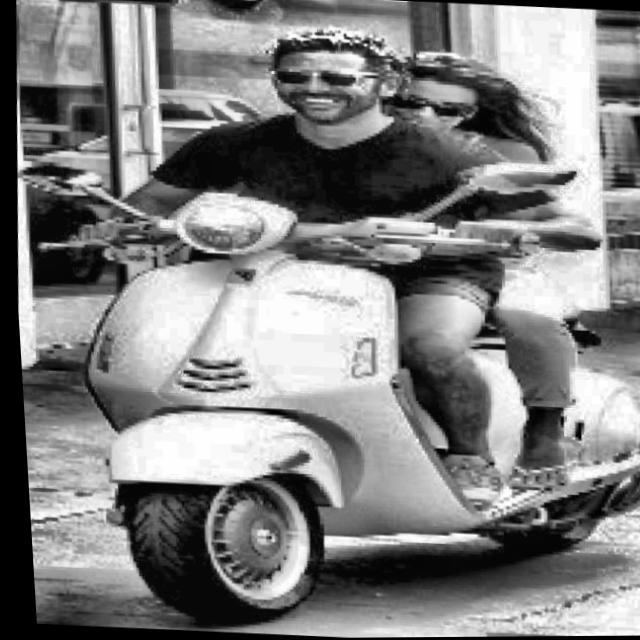motorcycle: (6, 119, 640, 640)
